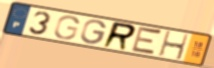3: (28, 10, 52, 36)
E: (129, 25, 164, 58)
G: (79, 19, 108, 46), (53, 15, 81, 41)
H: (157, 30, 190, 62)
R: (101, 21, 138, 52)
